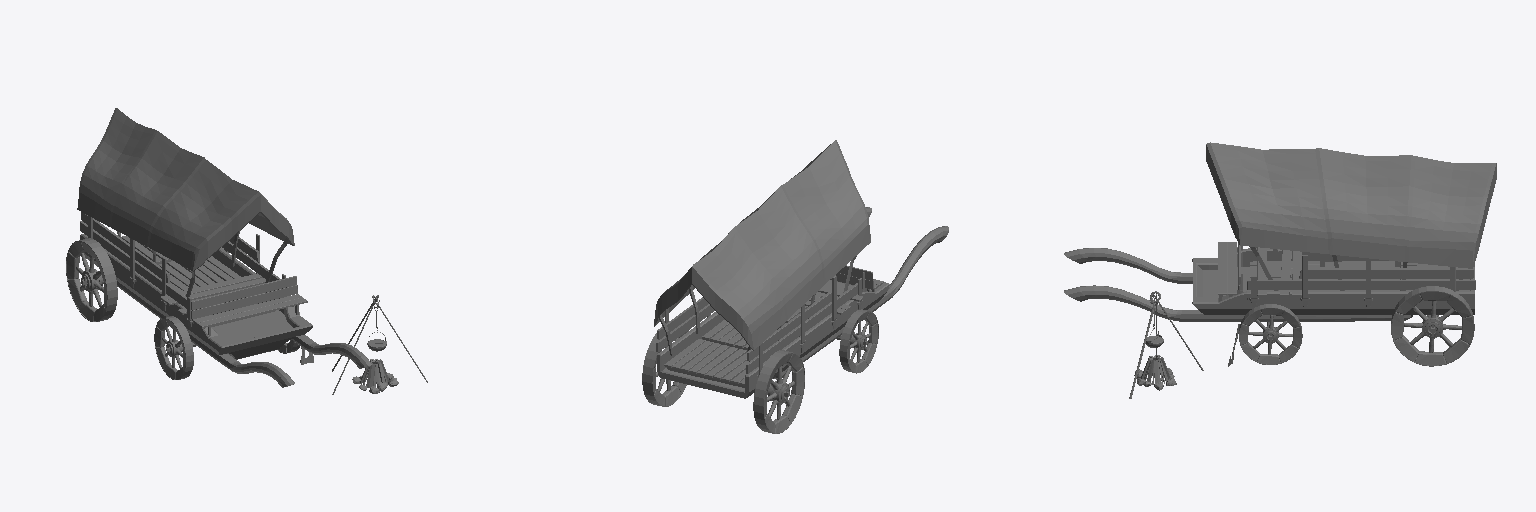
The model's file is camping_wagon_scene_geo.obj.
3 renders of one model, left to right at view 1: azimuth 30°, elevation 25°; view 2: azimuth 150°, elevation 25°; view 3: azimuth 270°, elevation 25°, orthographic.
Visible parts, largest first — view 1: camping_wagon_scene_geo; view 2: camping_wagon_scene_geo; view 3: camping_wagon_scene_geo.
Part boxes in pixels (left/top/right/bottom): camping_wagon_scene_geo: left=66, top=108, right=427, bottom=394; camping_wagon_scene_geo: left=642, top=140, right=948, bottom=433; camping_wagon_scene_geo: left=1064, top=142, right=1496, bottom=398.
Size of the model in its own units: 202 by 194 by 389.